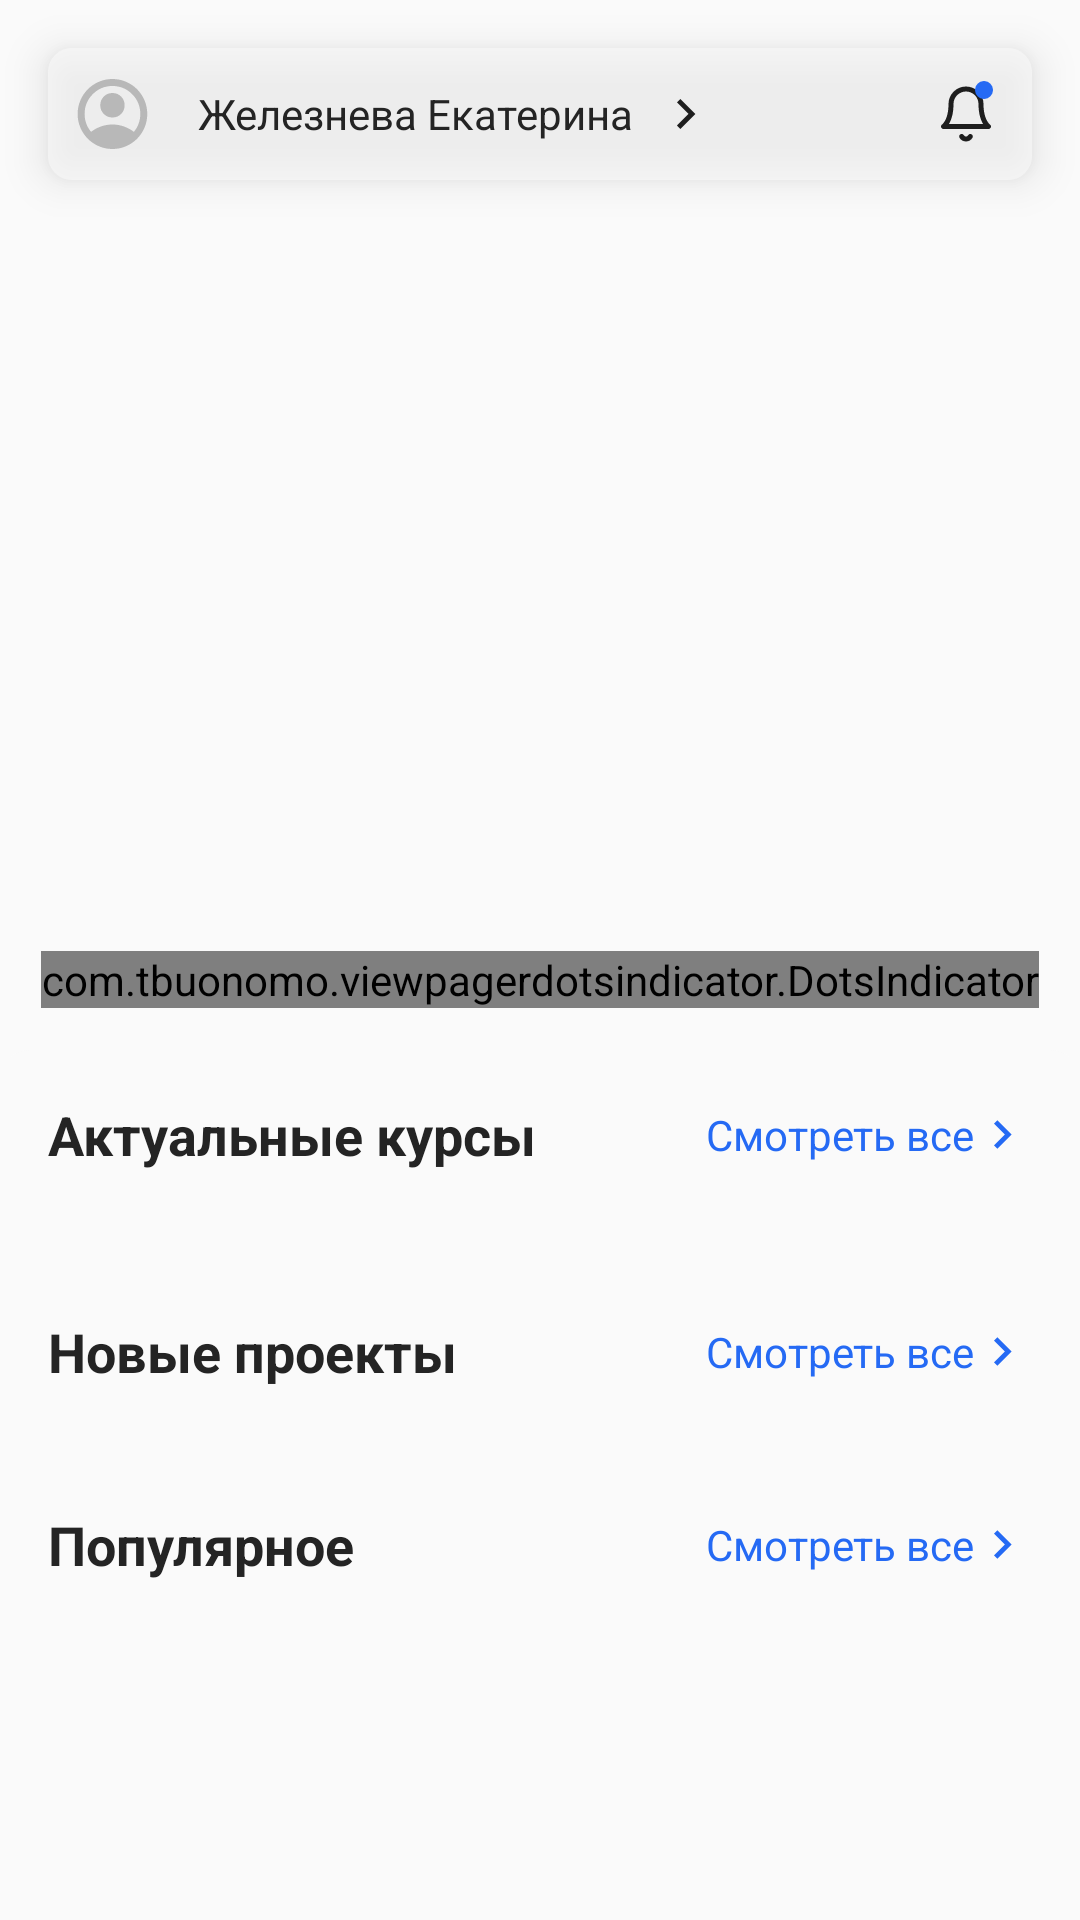

Named icons in this screenshot (1080×1920) and their centers, (x,y):
forward: (686,114)
profile: (112,114)
Уведомления: (967,111)
